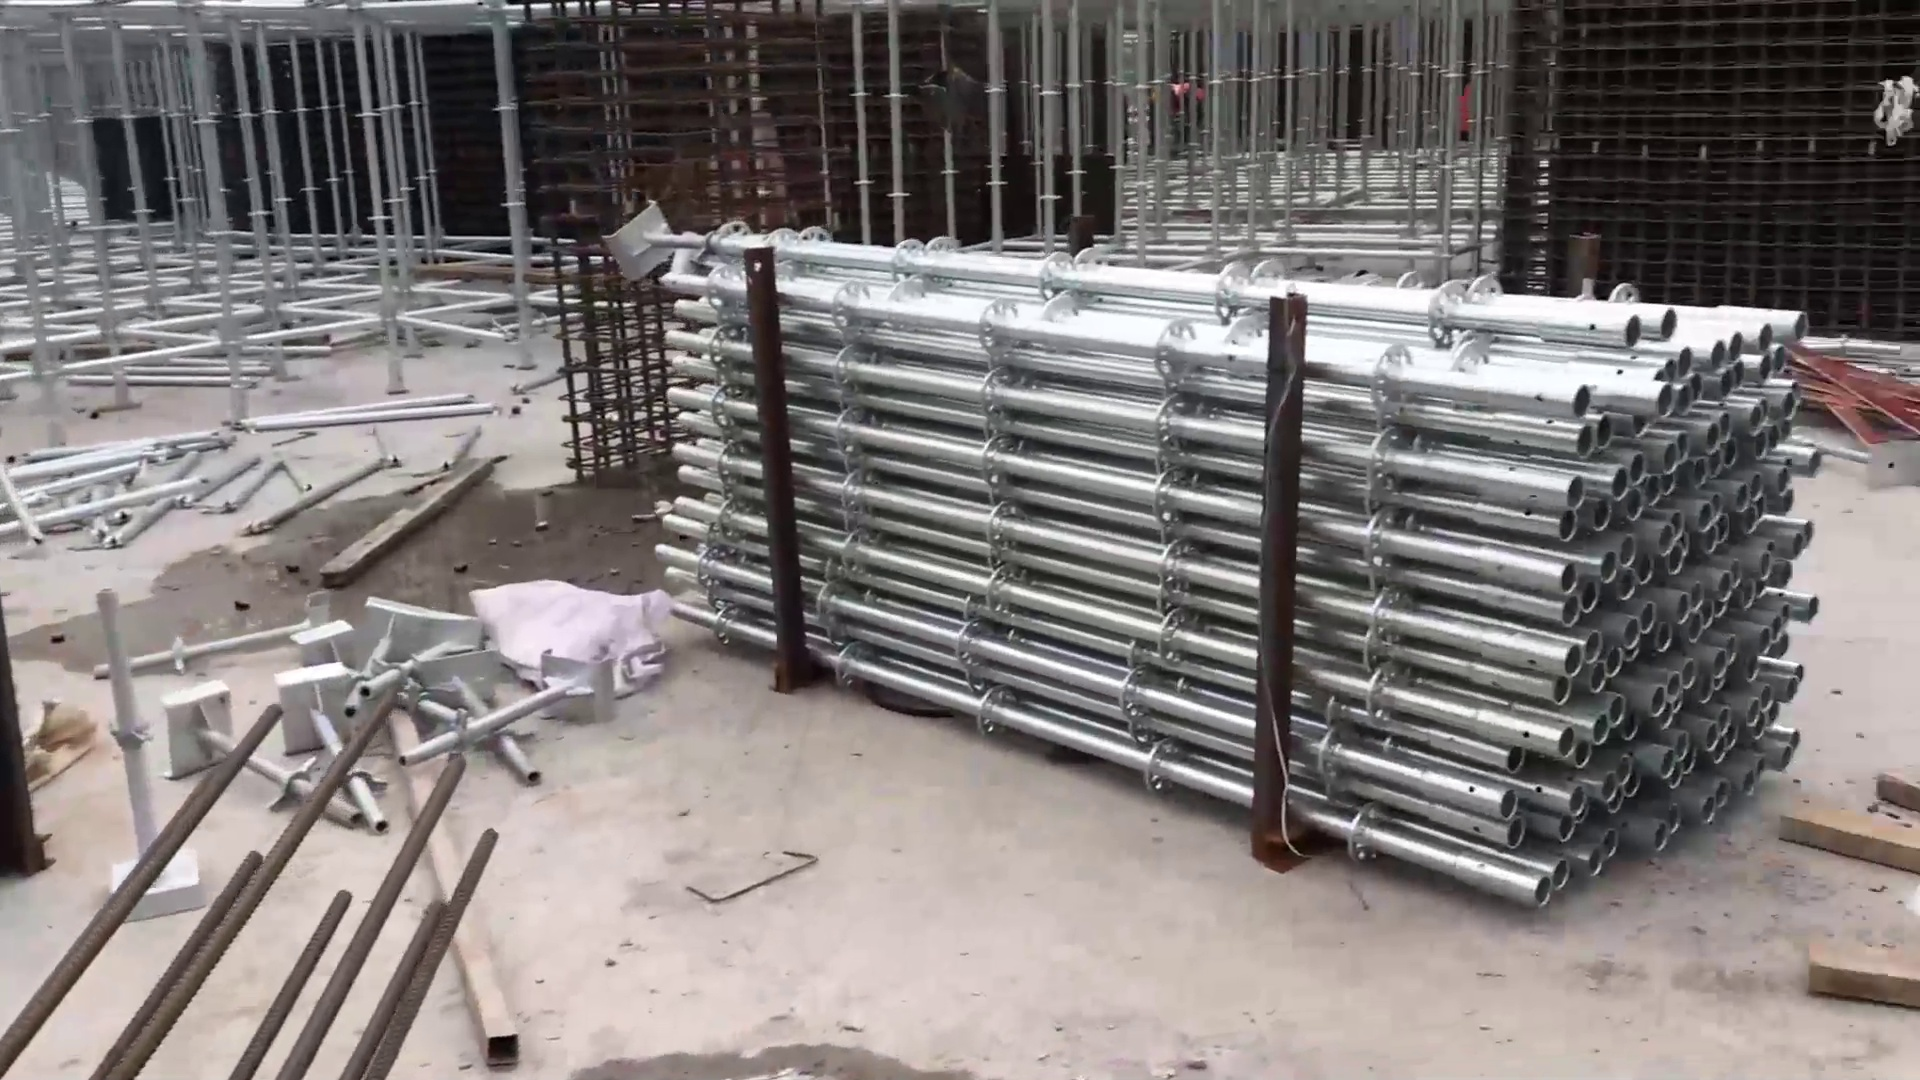scaffold: (618, 207, 1829, 934)
